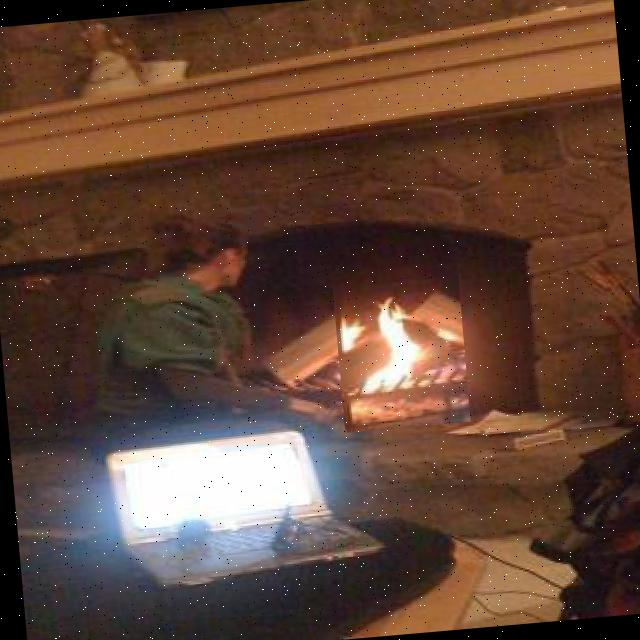fire: (330, 260, 470, 432)
